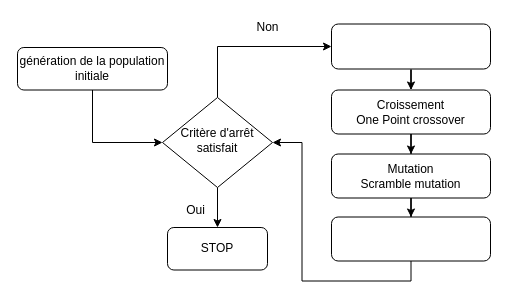
The diagram is 508 pixels wide and 306 high, and some of its shapes have lost their labels. The shapes that lost their labels are listed below. From the top down, each one's centre as x and y in pixels, then its label:
the point at 410,46: Sélection K-Tournament Selection
the point at 410,238: Evaluation Plus petit nombre de boîtes
